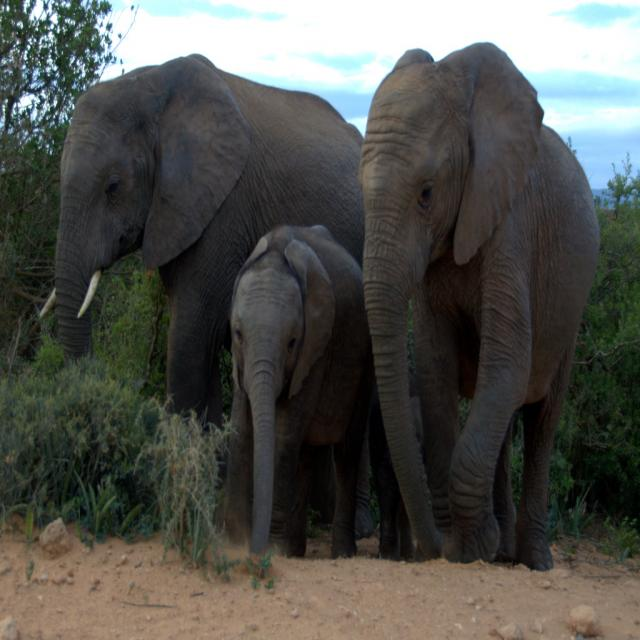elephant: (35, 52, 369, 506), (352, 44, 608, 585), (202, 217, 369, 556)
